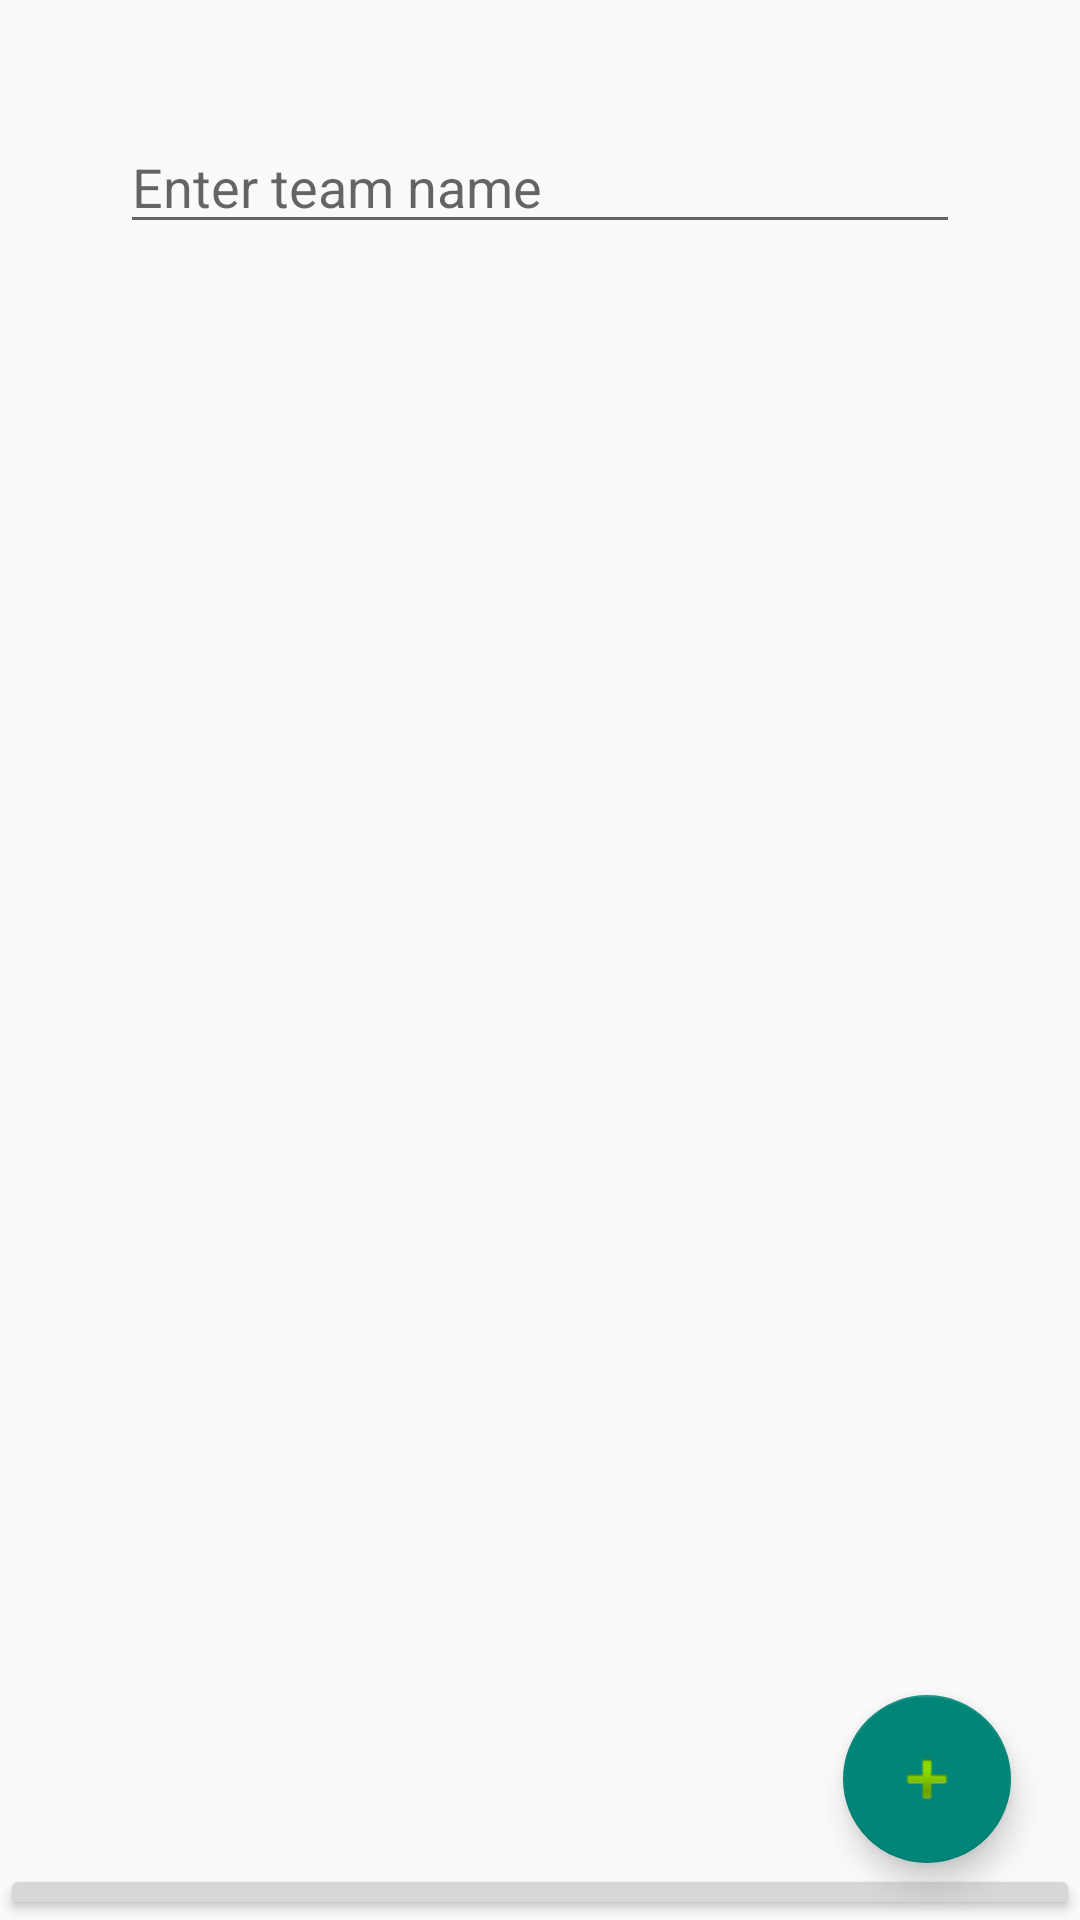

Screen size 1080 x 1920. Icon name, then its box in pixels as BBox(x1, y1, x2, y2):
add: BBox(843, 1695, 1011, 1863)
